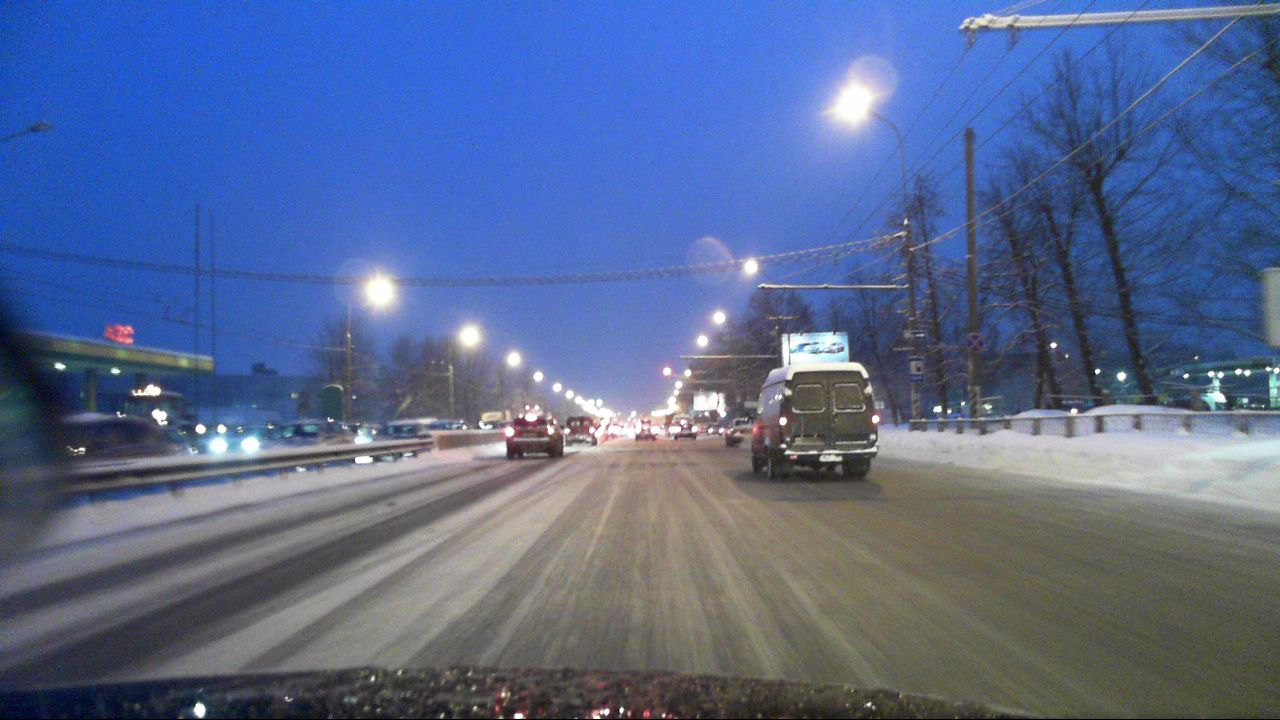No Parking: (965, 332, 989, 354)
